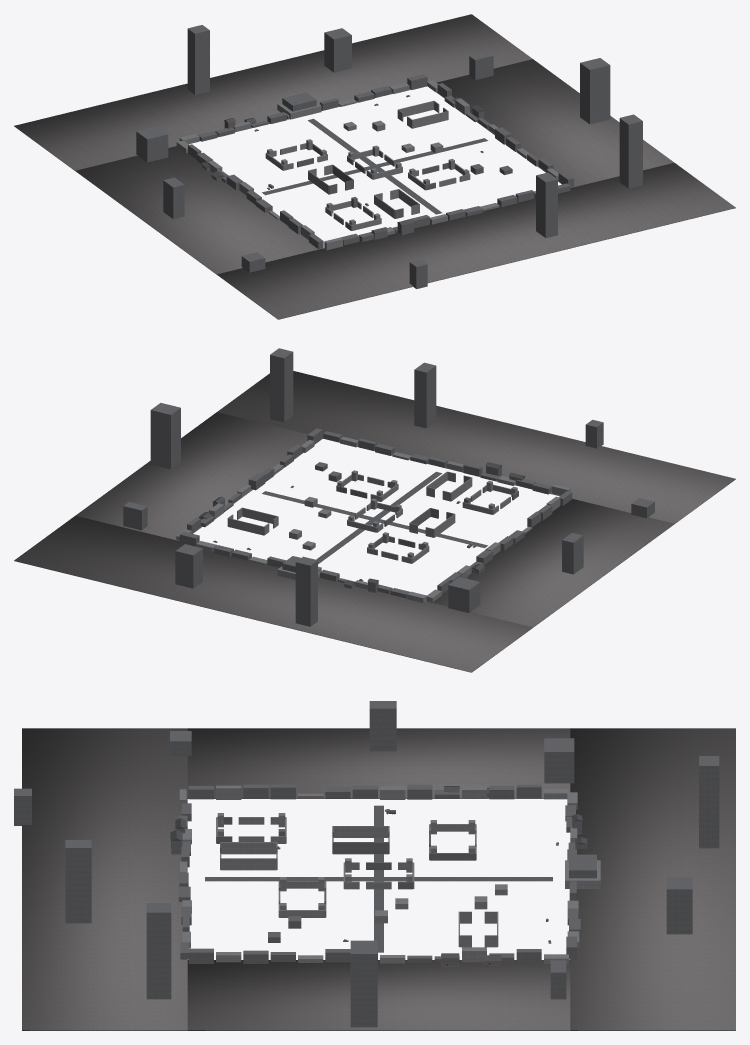
3 views of the same model, one above another, from view 1: azimuth 30°, elevation 25°; view 2: azimuth 150°, elevation 25°; view 3: azimuth 270°, elevation 25° (orthographic). The views are drawn at different scales.
Visible parts, largest first — view 1: HB_z02_LOD2_terrain, HB_z02_LOD2_wall_alt, HB_z02_LOD2_wall, HB_z02_LOD2_road; view 2: HB_z02_LOD2_terrain, HB_z02_LOD2_wall_alt, HB_z02_LOD2_wall, HB_z02_LOD2_road; view 3: HB_z02_LOD2_terrain, HB_z02_LOD2_wall_alt, HB_z02_LOD2_wall, HB_z02_LOD2_road, HB_z02_LOD2_trim.
Part boxes in pixels (<box>): HB_z02_LOD2_terrain: <box>14,14,735,319</box>; HB_z02_LOD2_wall_alt: <box>136,25,642,288</box>; HB_z02_LOD2_wall: <box>176,80,558,250</box>; HB_z02_LOD2_road: <box>262,118,487,214</box>; HB_z02_LOD2_terrain: <box>14,371,735,672</box>; HB_z02_LOD2_wall_alt: <box>123,348,654,626</box>; HB_z02_LOD2_wall: <box>176,436,570,603</box>; HB_z02_LOD2_road: <box>262,471,487,564</box>; HB_z02_LOD2_terrain: <box>22,728,735,1030</box>; HB_z02_LOD2_wall_alt: <box>14,701,719,1027</box>; HB_z02_LOD2_wall: <box>179,785,600,963</box>; HB_z02_LOD2_road: <box>205,805,552,952</box>; HB_z02_LOD2_trim: <box>170,786,587,965</box>.
Bounding box in the file's own units: 560 × 75.96 × 566.
8 materials, 7 textured.
